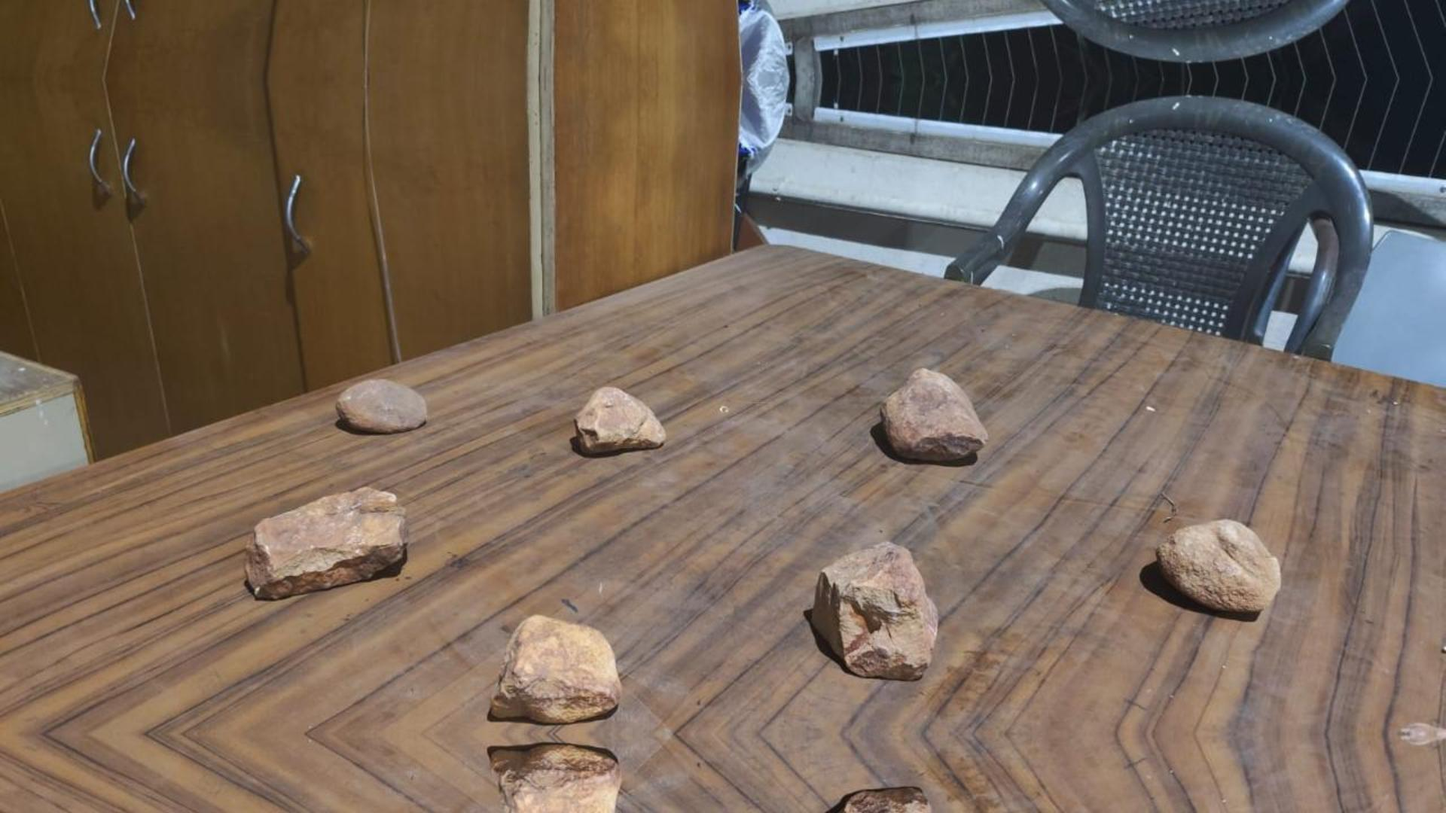rock: (245, 487, 408, 598), (810, 542, 938, 680), (488, 615, 621, 724), (1157, 519, 1280, 612), (881, 368, 987, 463), (488, 742, 620, 812), (574, 386, 665, 455), (336, 379, 426, 432), (826, 786, 931, 812)
